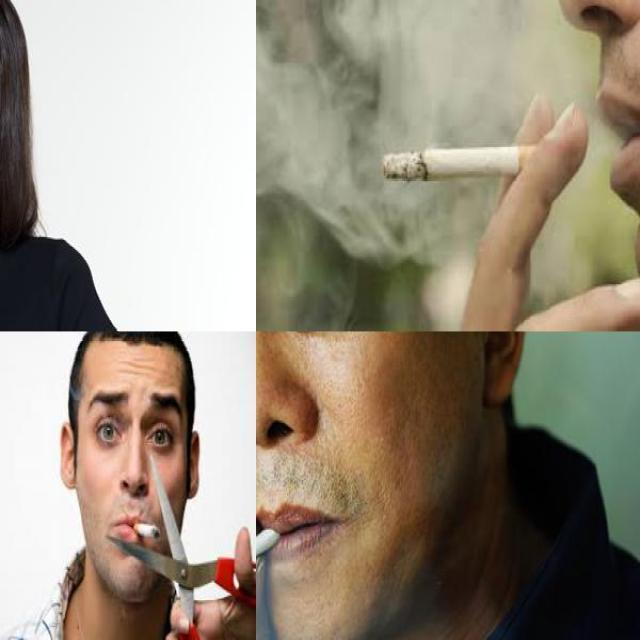smoking: (382, 143, 568, 180), (256, 520, 299, 600), (132, 524, 160, 540)
